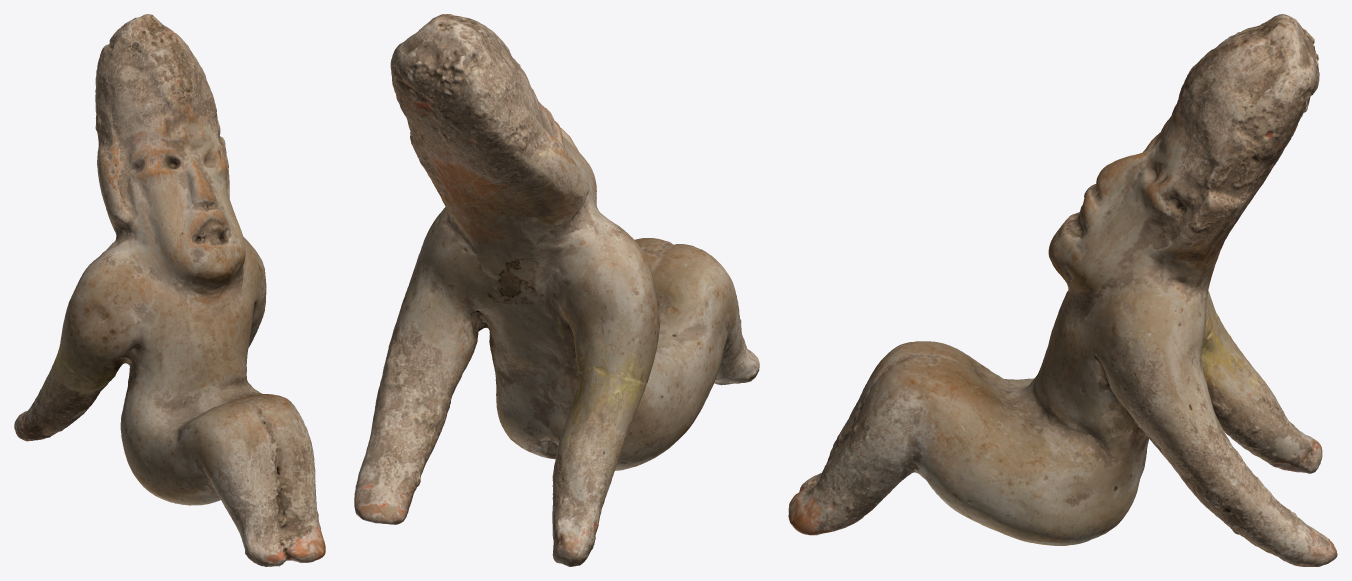
Rendered from olmek.glb.
The picture shows the model from 3 angles, left to right: view 1: azimuth 30°, elevation 25°; view 2: azimuth 150°, elevation 25°; view 3: azimuth 270°, elevation 25°; orthographic projection. The views are drawn at different scales.
Parts seen in each view (by area): view 1: 1974.18.0001 (olmek-figur); view 2: 1974.18.0001 (olmek-figur); view 3: 1974.18.0001 (olmek-figur).
Boxes of the visible parts, x1,y1,x2,y2 form: 1974.18.0001 (olmek-figur): (14,14,325,566); 1974.18.0001 (olmek-figur): (354,14,759,566); 1974.18.0001 (olmek-figur): (788,14,1337,566).
Bounding box in the file's own units: 1.45 × 2.86 × 2.72.
1 material, 1 textured.
